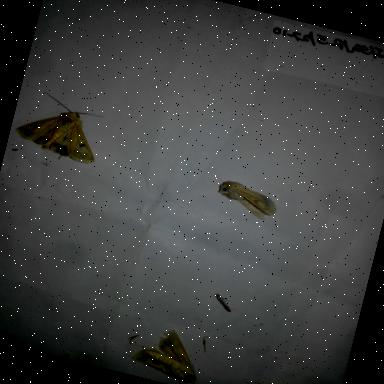abw: (10, 86, 108, 168), (129, 320, 208, 384)
